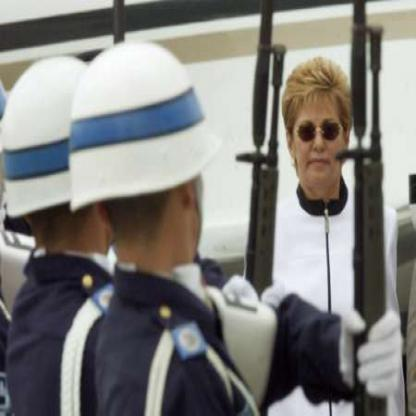face: (293, 69, 348, 191)
